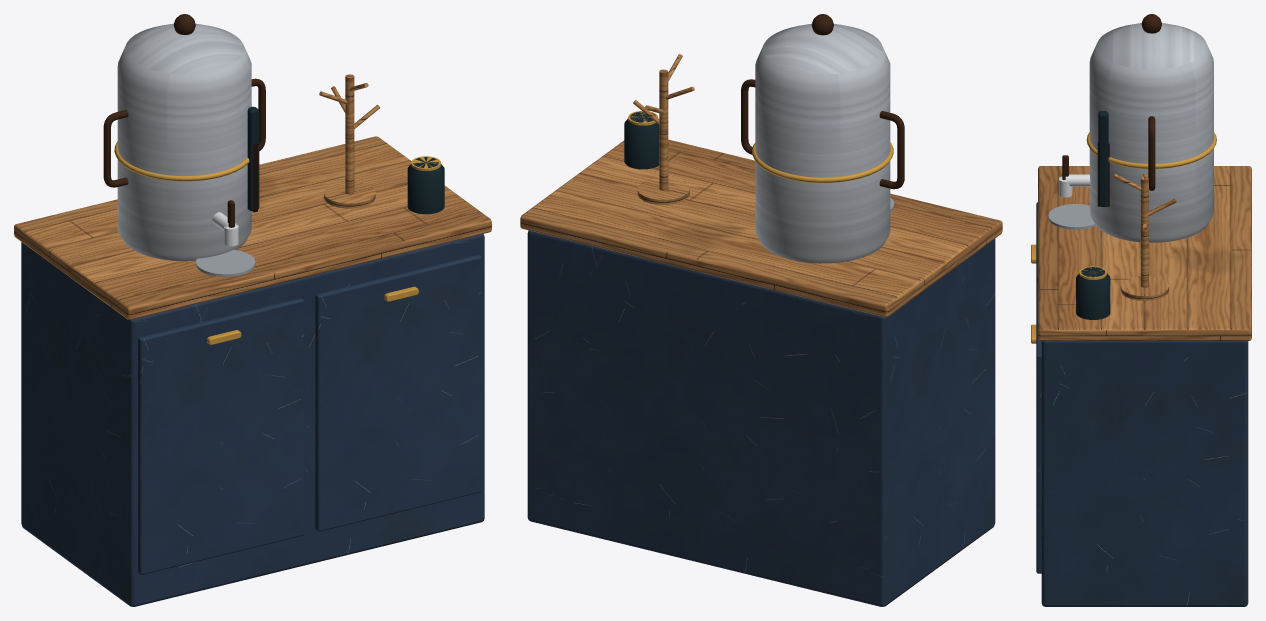
The model's file is CoffeeStation.glb.
The picture shows the model from 3 angles, left to right: view 1: azimuth 30°, elevation 25°; view 2: azimuth 150°, elevation 25°; view 3: azimuth 270°, elevation 25°; orthographic projection. The views are drawn at different scales.
Parts seen in each view (by area): view 1: CoffeeStation_Body; view 2: CoffeeStation_Body; view 3: CoffeeStation_Body, CoffeeStation_Tap.
Boxes of the visible parts, x1,y1,x2,y2 form: CoffeeStation_Body: [14, 14, 491, 606]; CoffeeStation_Body: [520, 14, 1002, 606]; CoffeeStation_Body: [1031, 14, 1251, 606]; CoffeeStation_Tap: [1058, 155, 1072, 197].
Bounding box in the file's own units: 1.13 × 1.55 × 0.64.
9 materials, 3 textured.
